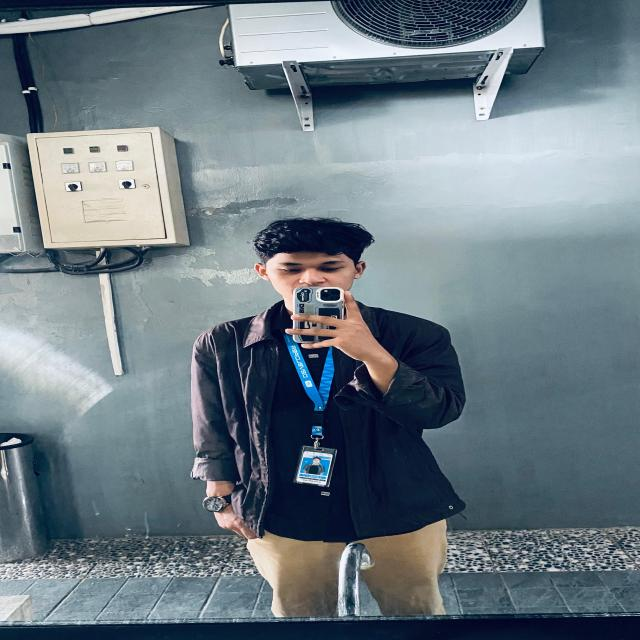nohelmet: (246, 220, 380, 302)
